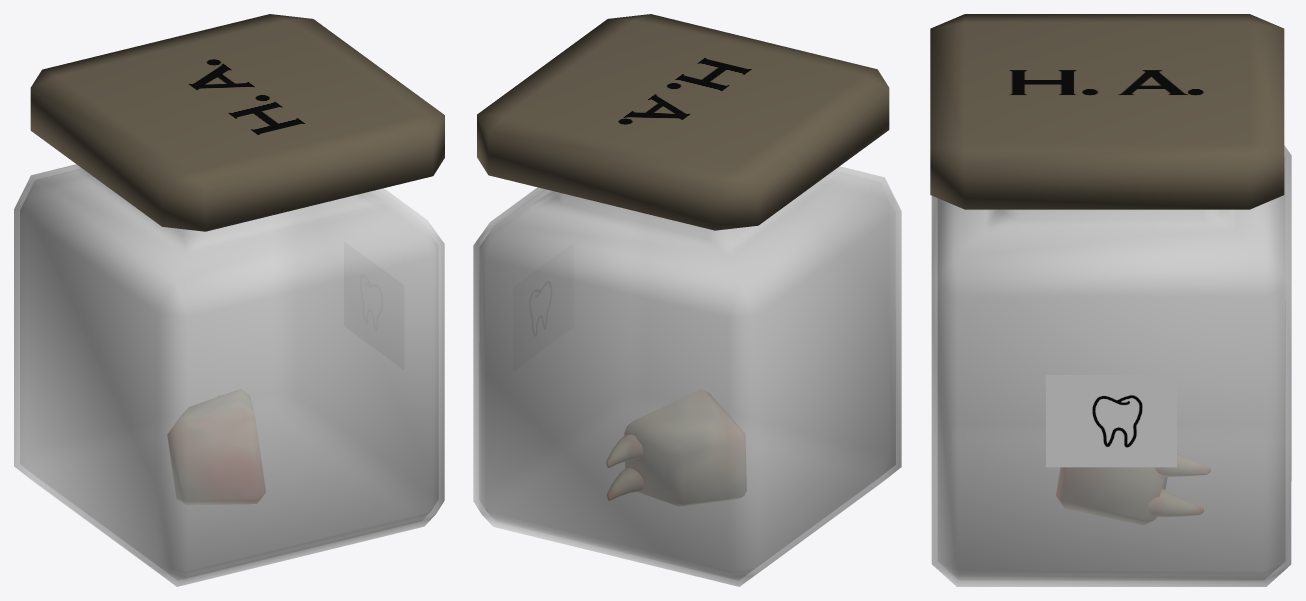
File: Tooth.fbx
The picture shows the model from 3 angles, left to right: view 1: azimuth 30°, elevation 25°; view 2: azimuth 150°, elevation 25°; view 3: azimuth 270°, elevation 25°; orthographic projection. The views are drawn at different scales.
Parts seen in each view (by area): view 1: Jar, CapLabel, Tooth; view 2: Jar, CapLabel, Tooth; view 3: Jar, CapLabel, Tooth.
Part boxes in pixels (x1,y1,x2,y2): Jar: (14,164,444,586); CapLabel: (30,14,444,231); Tooth: (167,389,265,504); Jar: (473,166,901,586); CapLabel: (477,14,889,230); Tooth: (606,389,746,506); Jar: (931,145,1291,586); CapLabel: (930,14,1284,467); Tooth: (1056,453,1210,524).
Bounding box in the file's own units: 323 × 432 × 320.
Materials: 3 (2 with a texture image).
